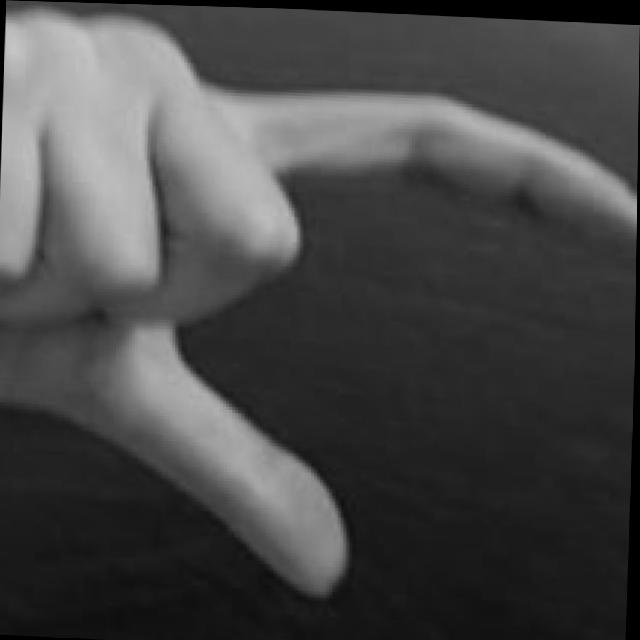C: (0, 4, 640, 621)
